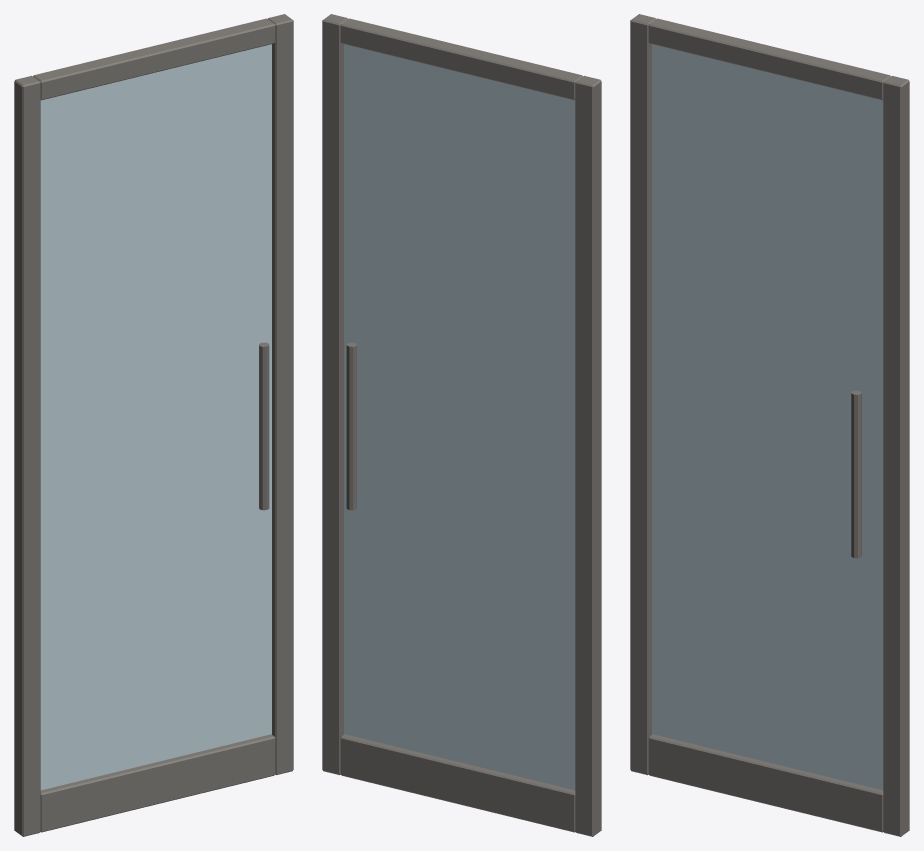
Rendered from door_leaf_glass.glb.
3 renders of one model, left to right at view 1: azimuth 30°, elevation 25°; view 2: azimuth 150°, elevation 25°; view 3: azimuth 330°, elevation 25°, orthographic.
Parts seen in each view (by area): view 1: door_leaf_glass_glass, door_leaf_glass_metal; view 2: door_leaf_glass_glass, door_leaf_glass_metal; view 3: door_leaf_glass_glass, door_leaf_glass_metal.
Boxes of the visible parts, bbox=[...] form: door_leaf_glass_glass: bbox=[40, 44, 271, 790]; door_leaf_glass_metal: bbox=[14, 14, 293, 836]; door_leaf_glass_glass: bbox=[344, 44, 575, 790]; door_leaf_glass_metal: bbox=[322, 14, 601, 836]; door_leaf_glass_glass: bbox=[652, 44, 883, 790]; door_leaf_glass_metal: bbox=[630, 14, 909, 836].
Bounding box in the file's own units: 0.87 × 2.3 × 0.16.
